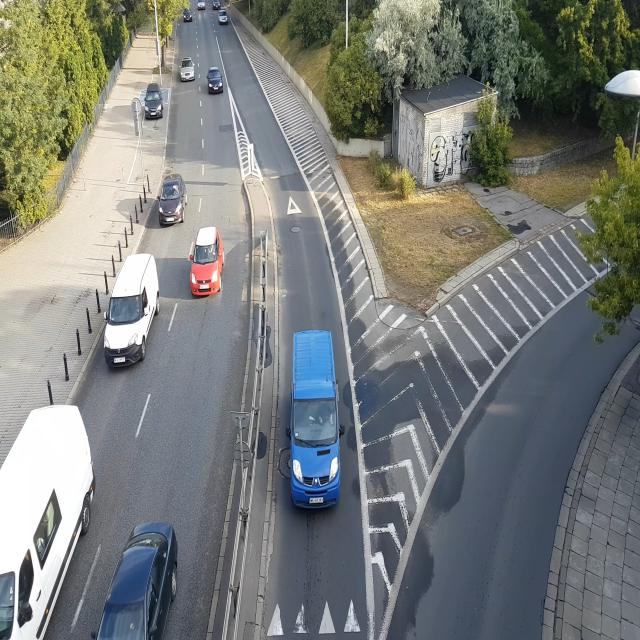car: (0, 408, 82, 635), (99, 522, 185, 640), (290, 329, 344, 516), (100, 264, 151, 370), (190, 226, 224, 295), (156, 169, 190, 226), (144, 88, 166, 119), (207, 69, 224, 93), (180, 58, 197, 81), (183, 2, 194, 23), (218, 14, 229, 24), (197, 0, 206, 11), (211, 0, 220, 11)
